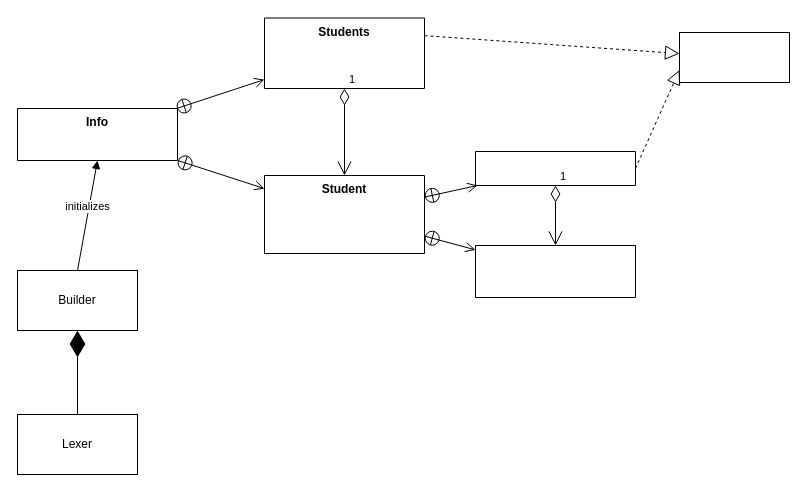
Some shapes in this 807 by 492 pixel diagram are drawn without their labels. The centre of each missing label's shape, as x and y in pixels:
"Stack" goes at point 734,57.
"Subject" goes at point 555,271.
"Subjects" goes at point 555,168.
